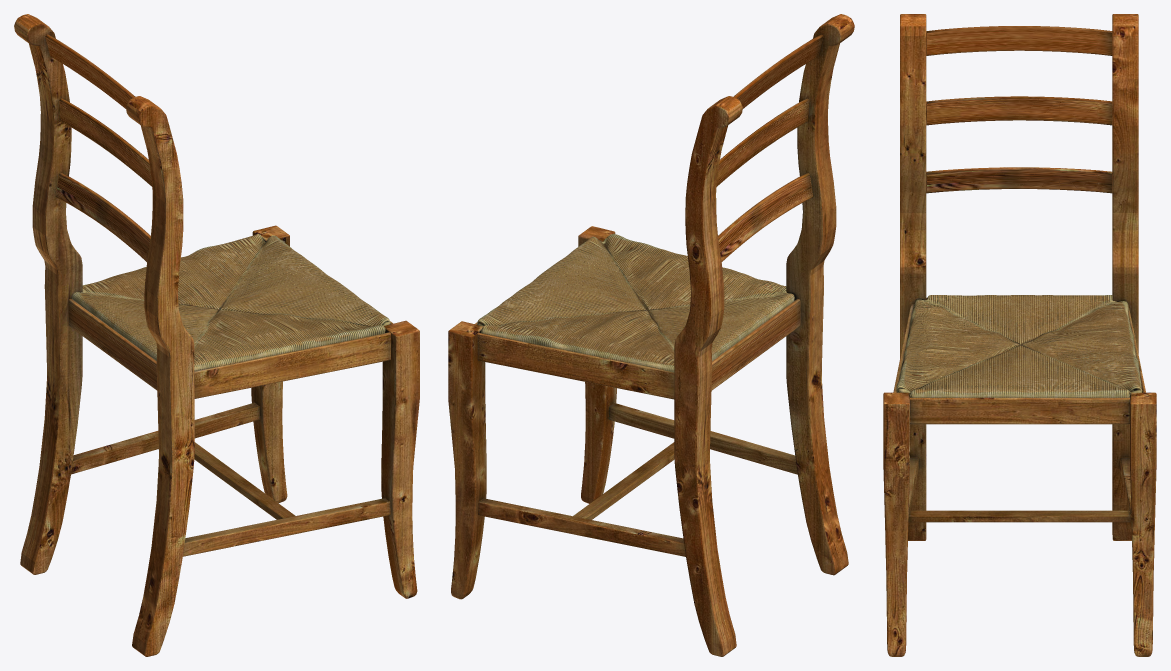
File: Sedia.obj
The picture shows the model from 3 angles, left to right: view 1: azimuth 30°, elevation 25°; view 2: azimuth 150°, elevation 25°; view 3: azimuth 270°, elevation 25°; orthographic projection. The views are drawn at different scales.
Parts seen in each view (by area): view 1: WoodSedia1; view 2: WoodSedia1; view 3: WoodSedia1.
Boxes of the visible parts, x1,y1,x2,y2 form: WoodSedia1: (14,14,419,656); WoodSedia1: (448,14,854,656); WoodSedia1: (883,14,1156,656).
Bounding box in the file's own units: 14.63 × 28.28 × 13.39.
